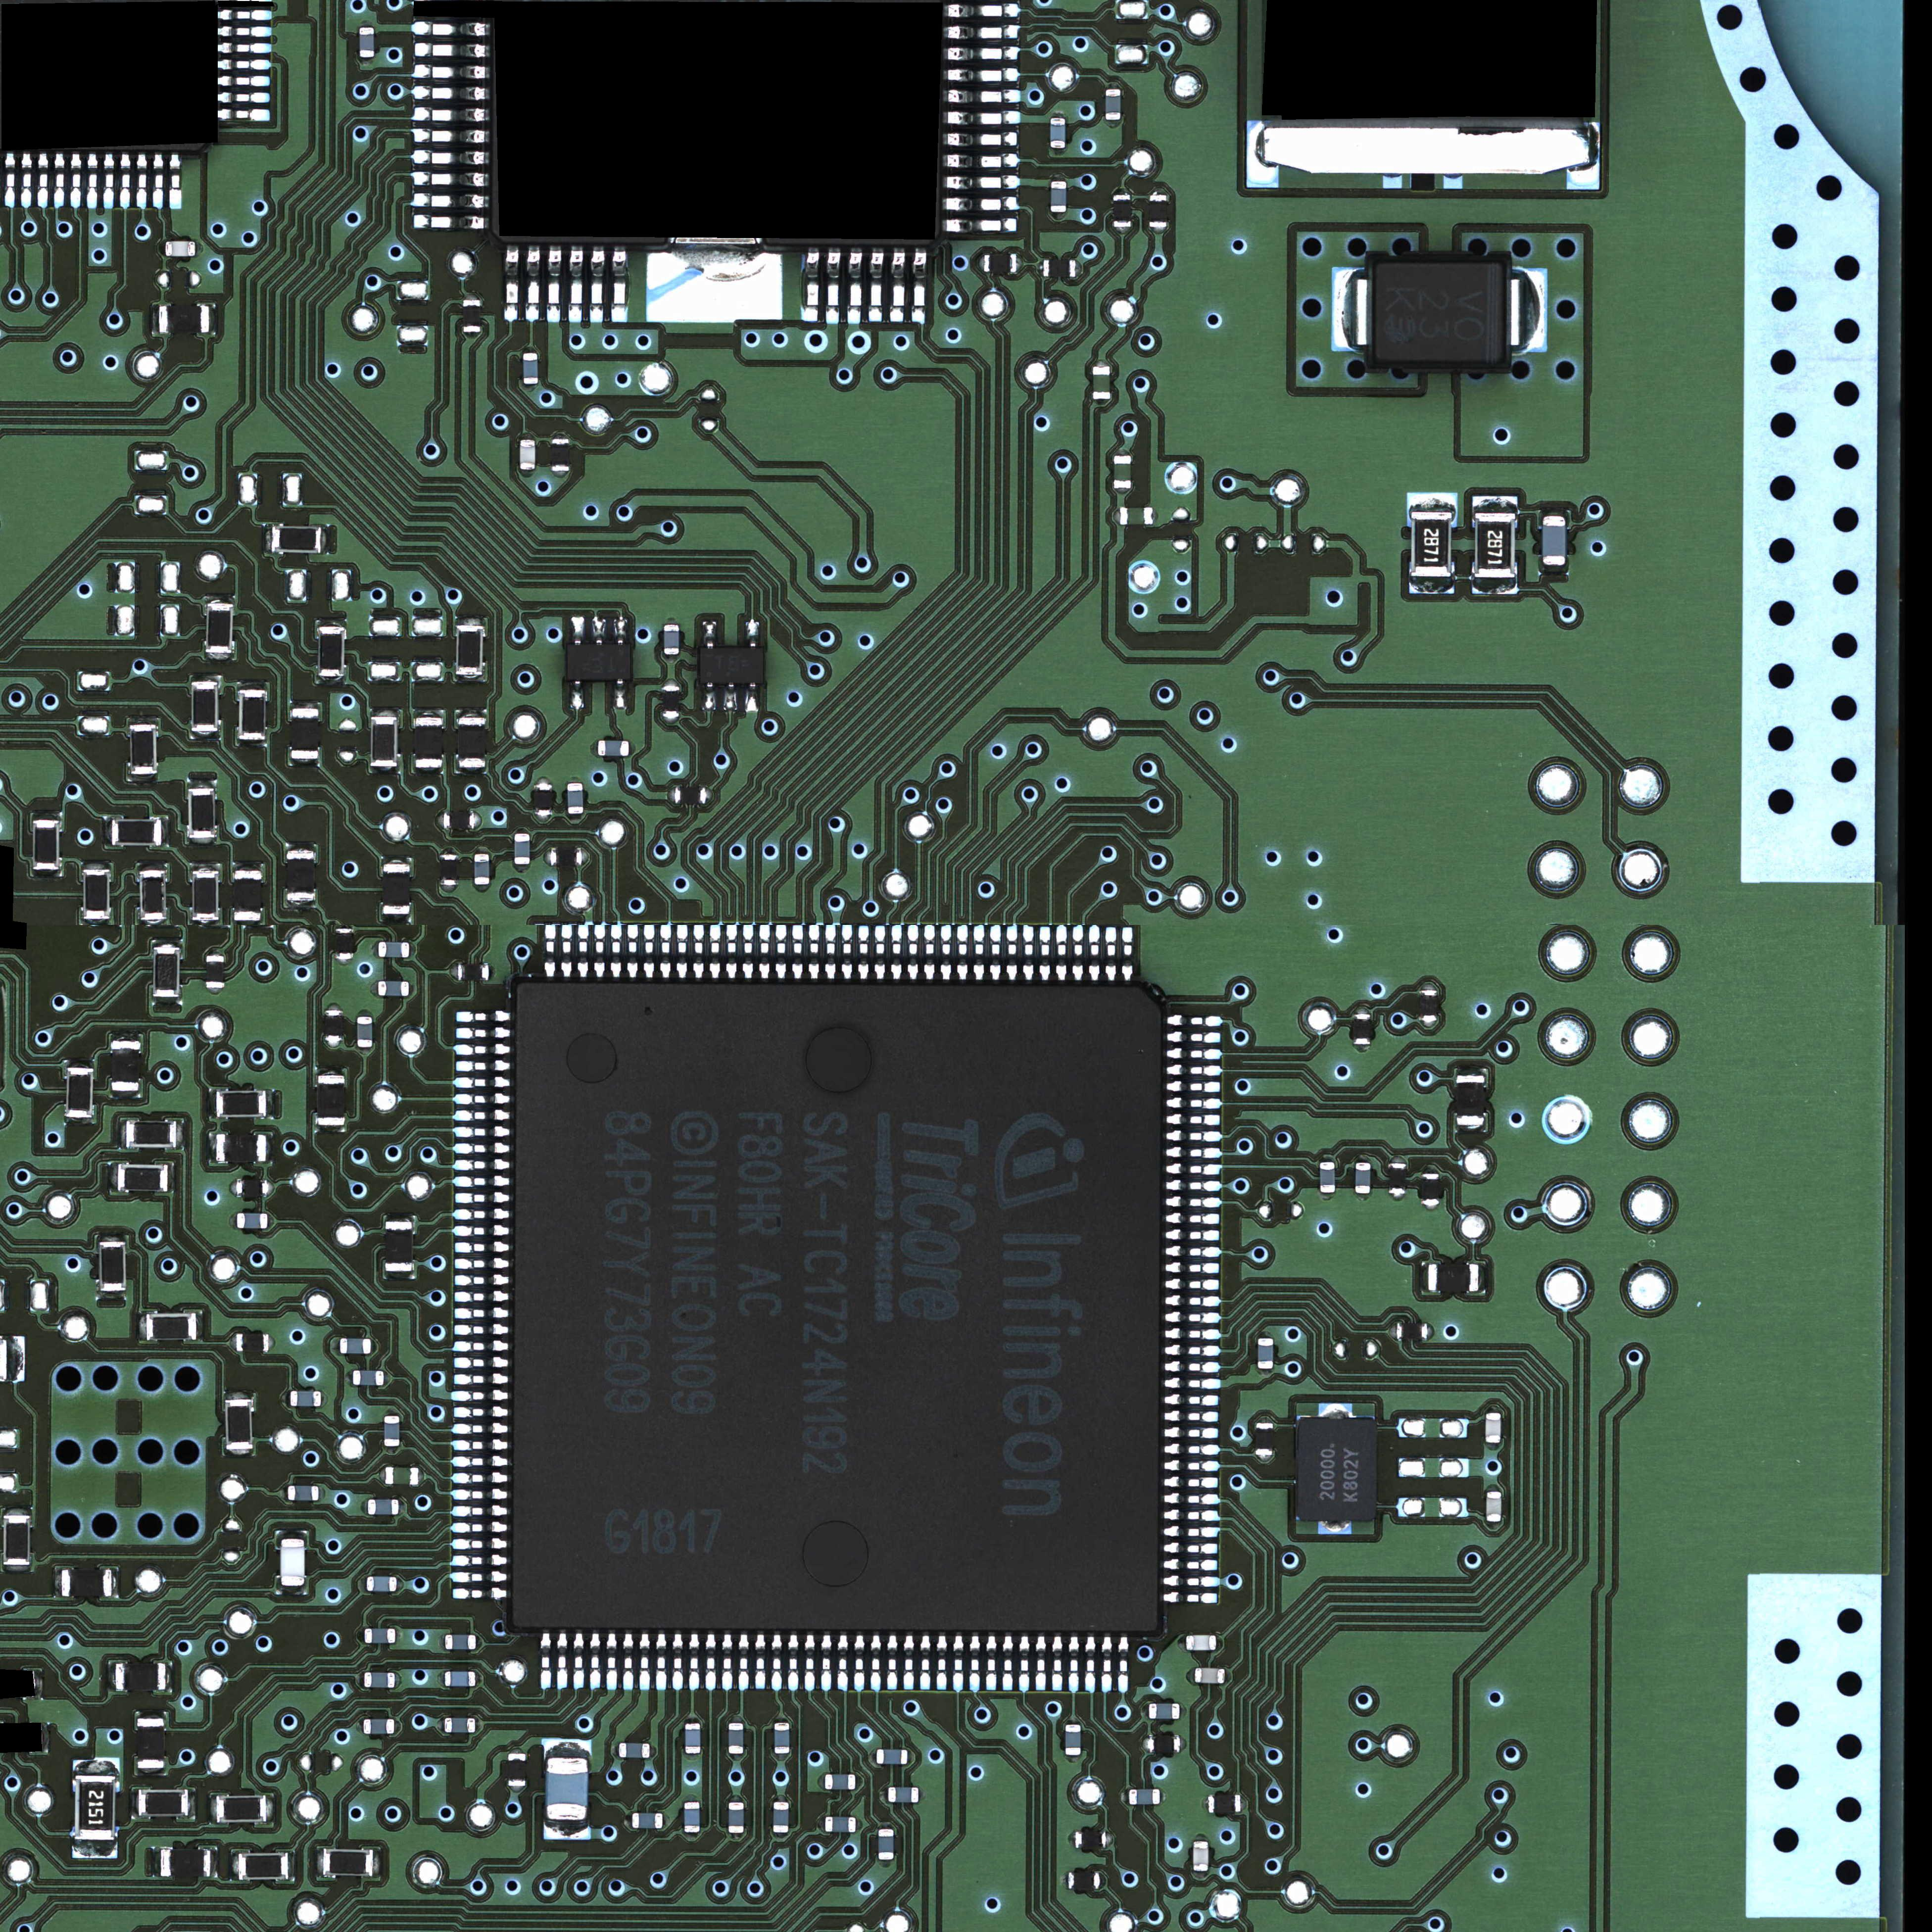Package: (517, 982, 1159, 1631), (1373, 262, 1506, 364), (1295, 1417, 1376, 1520), (74, 1776, 117, 1840), (1412, 511, 1453, 577), (1476, 513, 1514, 579), (547, 1757, 587, 1819), (566, 644, 632, 679), (699, 648, 763, 683), (1428, 1263, 1479, 1293), (111, 1040, 140, 1092), (382, 863, 410, 915), (161, 1849, 211, 1877), (216, 1134, 265, 1162), (317, 1076, 345, 1125), (414, 718, 442, 768), (1456, 1076, 1484, 1125), (290, 709, 318, 759), (287, 851, 315, 901), (386, 1221, 412, 1272), (115, 1663, 166, 1690), (154, 947, 180, 998), (147, 1313, 196, 1339), (159, 306, 209, 333), (318, 626, 345, 676), (62, 1569, 111, 1596), (191, 681, 218, 731), (119, 1164, 168, 1191), (207, 603, 234, 653), (138, 1718, 165, 1767), (239, 1852, 288, 1879), (111, 819, 161, 846), (458, 718, 485, 768), (4, 1516, 30, 1566), (218, 1796, 265, 1822), (324, 1851, 373, 1875), (99, 1242, 124, 1292), (372, 717, 396, 766), (235, 870, 260, 920), (216, 1092, 265, 1116), (83, 869, 108, 918), (126, 1122, 175, 1146), (67, 1069, 92, 1118), (226, 1399, 251, 1449), (193, 870, 218, 920), (241, 690, 265, 740), (140, 870, 165, 920), (140, 1790, 188, 1815), (131, 725, 156, 773), (456, 626, 481, 674), (34, 821, 58, 869), (189, 789, 214, 837), (272, 527, 320, 552), (1543, 517, 1566, 564), (281, 1539, 304, 1585), (1254, 1422, 1274, 1456), (984, 253, 1017, 272), (1421, 1173, 1440, 1205), (1208, 1794, 1240, 1813), (205, 955, 225, 987), (1120, 508, 1154, 525), (1150, 195, 1168, 228), (1042, 260, 1076, 278), (235, 1334, 269, 1352), (1093, 366, 1111, 400), (1113, 195, 1131, 226), (552, 439, 570, 471), (508, 1753, 525, 1785), (464, 301, 481, 333), (386, 1467, 418, 1484), (1419, 989, 1437, 1021), (1113, 456, 1131, 488), (534, 784, 552, 816), (550, 847, 582, 865), (1353, 1014, 1371, 1044), (1069, 1872, 1099, 1890), (1389, 1164, 1407, 1194), (237, 1178, 267, 1196), (773, 1801, 789, 1833), (352, 1369, 384, 1385), (1051, 180, 1067, 212), (340, 1338, 372, 1353), (674, 787, 706, 803), (1355, 1162, 1371, 1194), (326, 1010, 341, 1042), (366, 1576, 398, 1592), (1484, 1412, 1500, 1444), (363, 1718, 395, 1734), (876, 1748, 908, 1764), (442, 812, 474, 828), (1148, 1736, 1180, 1752), (364, 1672, 395, 1688), (878, 1829, 893, 1859), (685, 1803, 701, 1833), (1486, 1491, 1502, 1522), (368, 1499, 398, 1514), (663, 625, 679, 655), (1185, 1635, 1215, 1651), (384, 1415, 400, 1445), (357, 1017, 373, 1047), (1320, 1162, 1336, 1192), (826, 1817, 856, 1833), (290, 1391, 320, 1407), (441, 855, 456, 885), (237, 1212, 267, 1228), (1398, 1323, 1428, 1339), (364, 1628, 395, 1644), (1065, 1725, 1081, 1755), (888, 1787, 918, 1803), (685, 1723, 701, 1753), (288, 1484, 318, 1500), (379, 941, 409, 957), (1129, 1789, 1159, 1805), (663, 686, 679, 717), (1076, 1831, 1106, 1847), (336, 929, 352, 959), (379, 980, 409, 996), (1106, 88, 1120, 120), (1258, 1338, 1272, 1369), (515, 833, 529, 865), (1192, 1842, 1208, 1870), (166, 241, 195, 257), (446, 1672, 476, 1686), (729, 1723, 743, 1753), (446, 1635, 476, 1649), (568, 784, 582, 814), (444, 1718, 474, 1732), (729, 1803, 743, 1833), (359, 27, 373, 57), (524, 354, 538, 384), (824, 1775, 855, 1789), (775, 1723, 789, 1753), (1051, 119, 1065, 149), (1148, 1704, 1178, 1718), (632, 1813, 662, 1828), (598, 741, 628, 755), (474, 855, 488, 885), (1194, 1668, 1224, 1683), (619, 1743, 649, 1757), (458, 964, 488, 978), (520, 441, 534, 469)
Solder: (1249, 127, 1599, 188), (649, 253, 782, 320), (1332, 265, 1373, 352), (1507, 267, 1546, 352), (414, 42, 490, 58), (414, 85, 490, 101), (943, 23, 1019, 39), (943, 131, 1019, 147), (943, 152, 1019, 168), (943, 173, 1019, 189), (412, 21, 490, 35), (412, 64, 490, 78), (412, 129, 490, 143), (412, 172, 490, 186), (412, 195, 490, 209), (412, 108, 488, 122), (412, 150, 488, 165), (414, 216, 490, 230), (504, 244, 518, 320), (612, 248, 626, 324), (805, 248, 819, 324), (826, 248, 840, 324), (847, 248, 862, 324), (943, 46, 1019, 60), (943, 67, 1019, 81), (943, 88, 1019, 103), (943, 111, 1019, 126), (943, 196, 1019, 211), (943, 4, 1019, 18), (525, 246, 540, 320), (591, 248, 605, 322), (869, 249, 883, 324), (943, 218, 1017, 232), (1407, 492, 1458, 511), (570, 246, 582, 322), (543, 1821, 591, 1840), (548, 246, 561, 320), (892, 249, 904, 324), (913, 249, 925, 324), (73, 1840, 117, 1859), (543, 1739, 591, 1757), (73, 1757, 120, 1775), (7, 1334, 25, 1382), (1408, 577, 1454, 594), (1472, 495, 1518, 513), (453, 1175, 510, 1189), (453, 1224, 510, 1238), (453, 1125, 510, 1139), (451, 1389, 508, 1403), (451, 1488, 508, 1502), (453, 1339, 508, 1353), (1166, 1113, 1221, 1127), (1162, 1575, 1217, 1589), (453, 1438, 508, 1453), (455, 1076, 510, 1090), (455, 1191, 510, 1205), (543, 924, 557, 978), (455, 1290, 508, 1304), (593, 925, 607, 978), (642, 925, 656, 978), (1472, 579, 1518, 594), (704, 1633, 717, 1691), (639, 1633, 651, 1691), (453, 1159, 510, 1171), (451, 1422, 508, 1435), (451, 1522, 508, 1534), (453, 1143, 510, 1155), (451, 1506, 508, 1518), (1164, 1361, 1221, 1373), (1166, 1014, 1223, 1026), (1164, 1311, 1221, 1323), (453, 1208, 510, 1221), (775, 924, 787, 980), (692, 924, 704, 980), (451, 1472, 508, 1484), (759, 924, 771, 980), (1164, 1246, 1221, 1258), (1162, 1509, 1219, 1522), (1100, 1637, 1113, 1693), (688, 1635, 701, 1691), (1164, 1345, 1221, 1357), (455, 1242, 510, 1254), (1162, 1559, 1217, 1571), (455, 1258, 510, 1270), (453, 1357, 508, 1369), (455, 1274, 510, 1286), (453, 1456, 508, 1468), (451, 1537, 506, 1550), (1166, 1196, 1221, 1208), (1164, 1394, 1219, 1407), (1162, 1493, 1217, 1506), (1164, 1295, 1219, 1307), (1164, 1279, 1219, 1292), (1166, 1131, 1221, 1143), (1166, 1047, 1221, 1060), (455, 1093, 510, 1106), (955, 925, 968, 980), (791, 925, 803, 980), (453, 1373, 508, 1385), (1164, 1410, 1219, 1422), (1166, 1097, 1221, 1109), (1023, 925, 1035, 980), (973, 925, 985, 980), (1054, 925, 1067, 980), (1162, 1543, 1217, 1555), (1039, 925, 1051, 980), (709, 925, 722, 980), (939, 925, 952, 980), (1164, 1261, 1219, 1274), (453, 1323, 508, 1336), (455, 1109, 510, 1122), (456, 1010, 511, 1023), (1104, 927, 1116, 982), (451, 1555, 506, 1568), (754, 1635, 766, 1690), (890, 925, 902, 980), (676, 924, 688, 978), (1166, 1146, 1221, 1159), (453, 1307, 508, 1320), (1166, 1063, 1221, 1076), (455, 1026, 510, 1039), (453, 1407, 508, 1419), (455, 1044, 510, 1056), (451, 1571, 506, 1583), (840, 925, 853, 980), (1164, 1444, 1219, 1456), (561, 924, 573, 978), (725, 925, 738, 980), (743, 925, 755, 980), (809, 925, 821, 980), (824, 925, 837, 980), (906, 925, 918, 980), (1005, 925, 1017, 980), (1088, 925, 1100, 980), (886, 1635, 899, 1690), (1164, 1525, 1219, 1537), (1166, 1162, 1221, 1175), (1166, 1081, 1221, 1093), (216, 9, 271, 21), (218, 58, 272, 71), (216, 76, 271, 88), (1164, 1460, 1217, 1472), (1164, 1477, 1217, 1490), (1166, 1212, 1219, 1224), (456, 1060, 510, 1072), (577, 925, 589, 978), (610, 925, 623, 978), (626, 925, 639, 978), (660, 925, 672, 978), (902, 1637, 915, 1690), (672, 1633, 683, 1691), (1085, 1637, 1095, 1695), (573, 1633, 584, 1691), (1164, 1378, 1221, 1389), (936, 1635, 947, 1691), (1019, 1635, 1030, 1691), (1118, 1637, 1129, 1693), (1069, 1637, 1079, 1693), (920, 1635, 931, 1691), (870, 1635, 881, 1691), (855, 1635, 865, 1691), (837, 1635, 847, 1691), (821, 1635, 832, 1691), (805, 1635, 816, 1691), (787, 1635, 798, 1691), (771, 1635, 782, 1691), (738, 1635, 748, 1691), (722, 1635, 732, 1691), (656, 1633, 667, 1690), (623, 1633, 633, 1690), (607, 1633, 617, 1690), (589, 1633, 600, 1690), (557, 1633, 568, 1690), (540, 1633, 550, 1690), (1164, 1329, 1221, 1339), (216, 27, 272, 37), (216, 42, 272, 53), (1162, 1592, 1217, 1603), (1164, 1230, 1219, 1240), (1166, 1031, 1221, 1042), (1164, 1428, 1219, 1438), (874, 925, 885, 980), (858, 925, 869, 980), (1166, 1180, 1221, 1191), (924, 925, 934, 980), (991, 925, 1001, 980), (1072, 925, 1083, 980), (1053, 1637, 1063, 1691), (1035, 1637, 1046, 1691), (1003, 1637, 1014, 1691), (985, 1635, 996, 1690), (970, 1637, 980, 1691), (954, 1637, 964, 1691), (5, 152, 16, 207), (21, 152, 32, 207), (37, 152, 48, 207), (55, 152, 65, 207), (71, 152, 81, 207), (87, 152, 97, 207), (138, 154, 149, 209), (154, 154, 165, 209), (170, 154, 180, 209), (216, 94, 271, 104), (216, 110, 271, 120), (1122, 927, 1132, 980), (453, 1589, 506, 1599), (120, 154, 131, 207), (1318, 1403, 1353, 1417), (570, 681, 586, 711), (104, 154, 113, 207), (612, 679, 626, 708), (745, 619, 759, 648), (1318, 1522, 1350, 1534), (570, 617, 584, 644), (593, 617, 607, 644), (702, 621, 717, 648), (702, 683, 717, 709), (745, 683, 757, 711), (614, 617, 626, 644), (237, 679, 267, 690), (110, 1030, 140, 1040), (724, 685, 736, 709), (414, 708, 442, 718), (188, 778, 216, 789), (108, 1164, 119, 1192), (458, 708, 485, 718), (290, 701, 320, 709), (285, 842, 315, 851), (234, 862, 264, 870), (191, 862, 221, 870), (129, 717, 159, 725), (110, 1090, 140, 1099), (175, 1120, 184, 1150), (96, 1290, 126, 1299), (225, 1391, 255, 1399), (384, 1214, 414, 1223), (276, 1585, 306, 1594), (152, 1847, 161, 1877), (188, 1789, 196, 1819), (203, 653, 234, 662), (317, 676, 345, 685), (161, 817, 170, 846), (127, 773, 156, 782), (191, 731, 219, 740), (65, 1060, 94, 1069), (138, 1313, 147, 1341), (97, 1233, 126, 1242), (265, 1090, 274, 1118), (317, 1067, 345, 1076), (209, 1794, 218, 1822), (1456, 1067, 1484, 1076), (1539, 564, 1568, 573), (1541, 508, 1569, 517), (35, 1670, 44, 1698), (32, 869, 58, 878), (32, 810, 58, 819), (189, 837, 216, 846), (4, 1507, 30, 1516), (456, 617, 483, 626), (237, 740, 269, 747), (64, 1118, 96, 1125), (1421, 1261, 1428, 1293), (372, 708, 396, 717), (265, 524, 272, 554), (191, 674, 221, 681), (168, 1162, 175, 1192), (196, 1311, 203, 1341), (223, 1449, 253, 1456), (209, 1132, 216, 1162), (315, 1125, 345, 1132), (276, 1530, 306, 1537), (131, 1789, 138, 1819), (134, 1767, 165, 1775), (1479, 1263, 1486, 1293), (1456, 1125, 1486, 1132), (455, 674, 485, 681), (152, 304, 159, 333), (320, 525, 327, 554), (290, 759, 318, 766), (414, 768, 442, 775), (382, 915, 410, 922), (382, 856, 410, 863), (287, 901, 315, 908), (138, 920, 166, 927), (138, 863, 166, 870), (104, 817, 111, 846), (152, 939, 180, 947), (152, 998, 180, 1005), (119, 1120, 126, 1148), (384, 1272, 412, 1279), (265, 1134, 272, 1162), (209, 1090, 216, 1118), (373, 1849, 380, 1877), (267, 1796, 274, 1824), (136, 1711, 165, 1718), (111, 1568, 119, 1596), (55, 1568, 62, 1596), (205, 596, 234, 603), (42, 1723, 50, 1752), (209, 306, 216, 333), (458, 768, 485, 775), (83, 862, 110, 869), (317, 1849, 324, 1875), (372, 766, 396, 773), (317, 621, 347, 626), (189, 920, 219, 925), (288, 1851, 294, 1881), (234, 1851, 239, 1881), (110, 1661, 115, 1691), (441, 885, 458, 893), (518, 432, 536, 441), (662, 1812, 671, 1829), (1060, 1872, 1069, 1890), (1049, 212, 1067, 221), (234, 920, 262, 925), (211, 1849, 216, 1877), (166, 1663, 172, 1691), (1185, 1668, 1196, 1683), (195, 241, 203, 257), (474, 812, 483, 828), (441, 846, 456, 855), (663, 655, 679, 663), (83, 918, 110, 924), (518, 469, 534, 478), (228, 1180, 237, 1196), (435, 1716, 444, 1732), (4, 1566, 30, 1571), (729, 1794, 745, 1803), (878, 1859, 893, 1868), (1177, 1635, 1185, 1651), (1099, 1872, 1108, 1888), (1389, 1323, 1398, 1339), (1389, 1155, 1405, 1164), (1353, 1044, 1369, 1053), (205, 987, 225, 994), (1113, 226, 1132, 234), (474, 846, 488, 855), (474, 885, 488, 893), (543, 847, 550, 865), (534, 777, 552, 784), (582, 847, 589, 865), (628, 741, 637, 755), (662, 717, 679, 724), (662, 679, 679, 686), (552, 471, 570, 478), (552, 432, 570, 439), (464, 294, 481, 301), (207, 948, 225, 955), (269, 1334, 276, 1352), (418, 1467, 425, 1484), (379, 1467, 386, 1484), (267, 1212, 274, 1230), (357, 1008, 372, 1017), (370, 982, 379, 996), (625, 1812, 632, 1829), (817, 1817, 826, 1831), (855, 1775, 863, 1789), (879, 1787, 888, 1801), (878, 1822, 895, 1829), (1120, 1790, 1129, 1805), (1194, 1833, 1208, 1842), (1194, 1870, 1208, 1879), (1320, 1192, 1334, 1201), (1049, 149, 1067, 156), (1113, 188, 1131, 195), (1106, 120, 1120, 129), (157, 241, 165, 257), (435, 812, 442, 828), (591, 740, 598, 755), (536, 816, 552, 823), (667, 787, 674, 803), (706, 787, 713, 803), (663, 617, 679, 625), (336, 959, 352, 966), (522, 384, 538, 391), (522, 347, 538, 354), (228, 1334, 235, 1350), (320, 1391, 327, 1407), (318, 1484, 326, 1500), (361, 1499, 368, 1514), (398, 1499, 405, 1514), (384, 1447, 400, 1454), (384, 1408, 400, 1415), (230, 1212, 237, 1228), (267, 1180, 274, 1196), (326, 1003, 341, 1010), (357, 1047, 373, 1054), (372, 941, 379, 957), (409, 941, 416, 957), (357, 1628, 364, 1644), (395, 1672, 402, 1688), (510, 1746, 525, 1753), (510, 1785, 525, 1792), (649, 1743, 656, 1759), (685, 1753, 701, 1760), (729, 1753, 745, 1760), (729, 1716, 745, 1723), (773, 1753, 789, 1760), (773, 1794, 789, 1801), (729, 1833, 745, 1840), (683, 1794, 699, 1801), (1065, 1718, 1081, 1725), (1159, 1789, 1166, 1805), (1180, 1736, 1187, 1752), (1141, 1736, 1148, 1752), (1180, 1702, 1187, 1718), (1217, 1635, 1224, 1651), (1240, 1796, 1247, 1812), (1069, 1831, 1076, 1847), (1258, 1330, 1274, 1338), (1428, 1323, 1435, 1339), (1486, 1405, 1502, 1412), (1484, 1444, 1500, 1451), (1422, 1166, 1438, 1173), (1389, 1194, 1405, 1201), (1355, 1155, 1371, 1162), (1353, 1007, 1369, 1014), (1421, 1021, 1437, 1028), (1113, 508, 1120, 524), (1115, 449, 1131, 456), (1093, 359, 1109, 366), (1076, 260, 1083, 276), (1037, 260, 1044, 276), (1051, 173, 1067, 180), (1150, 188, 1166, 195), (359, 57, 375, 64), (1486, 1484, 1502, 1491), (1486, 1522, 1502, 1529), (1254, 1456, 1274, 1461), (1254, 1417, 1274, 1422), (515, 865, 529, 872), (568, 814, 582, 821), (568, 777, 582, 784), (384, 1371, 391, 1385), (451, 964, 458, 978), (488, 964, 495, 978), (361, 1576, 368, 1591), (357, 1672, 364, 1686), (395, 1720, 402, 1734), (437, 1672, 444, 1686), (439, 1635, 446, 1649), (476, 1635, 483, 1649), (612, 1743, 619, 1757), (856, 1817, 863, 1831), (817, 1775, 824, 1789), (1065, 1755, 1079, 1762), (908, 1750, 915, 1764), (918, 1785, 925, 1799), (1141, 1704, 1148, 1718), (1224, 1668, 1231, 1683), (1201, 1796, 1208, 1810), (1106, 1833, 1113, 1847), (1355, 1194, 1369, 1201), (1320, 1155, 1334, 1162), (1051, 111, 1065, 119), (359, 19, 373, 27), (336, 924, 354, 929), (464, 333, 481, 338), (1150, 228, 1168, 234), (513, 828, 529, 833), (285, 1391, 290, 1407), (326, 1042, 341, 1047), (409, 980, 414, 996), (396, 1628, 402, 1644), (357, 1718, 363, 1734), (685, 1718, 701, 1723), (773, 1718, 789, 1723), (1258, 1369, 1274, 1375), (1421, 984, 1437, 989), (1154, 508, 1159, 524), (1115, 488, 1131, 494), (1093, 400, 1109, 405), (1017, 255, 1023, 271), (978, 255, 984, 271), (1106, 83, 1122, 88), (283, 1486, 288, 1500), (347, 1371, 352, 1385), (372, 1339, 377, 1353), (334, 1339, 340, 1353), (398, 1576, 403, 1591), (476, 1718, 481, 1732), (476, 1672, 481, 1686), (773, 1833, 787, 1838), (685, 1833, 699, 1838), (870, 1750, 876, 1764), (1424, 1205, 1438, 1210), (336, 924, 352, 927)
